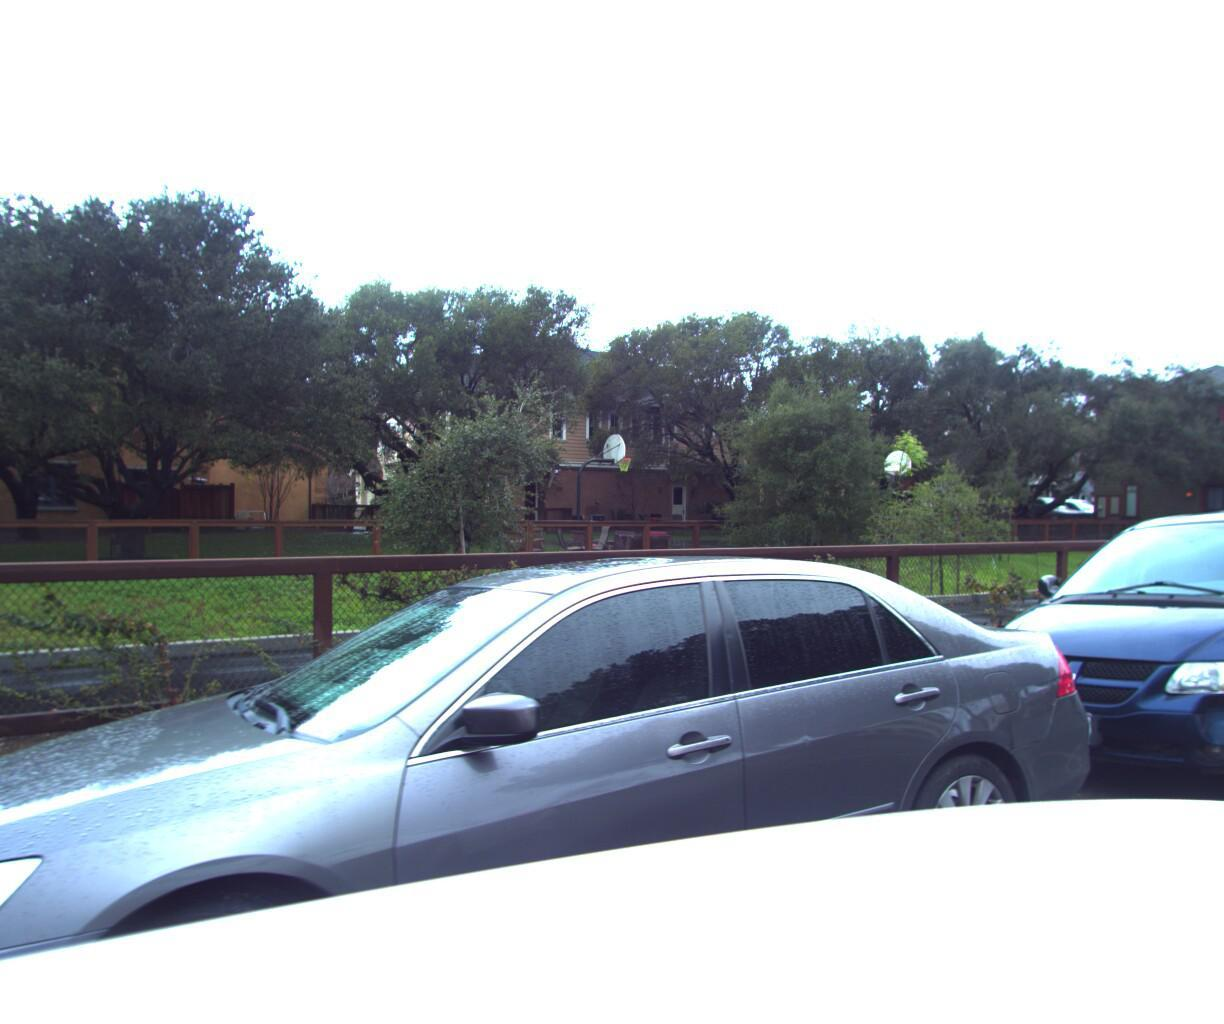car: (0, 543, 1165, 1024), (908, 469, 1224, 849)
